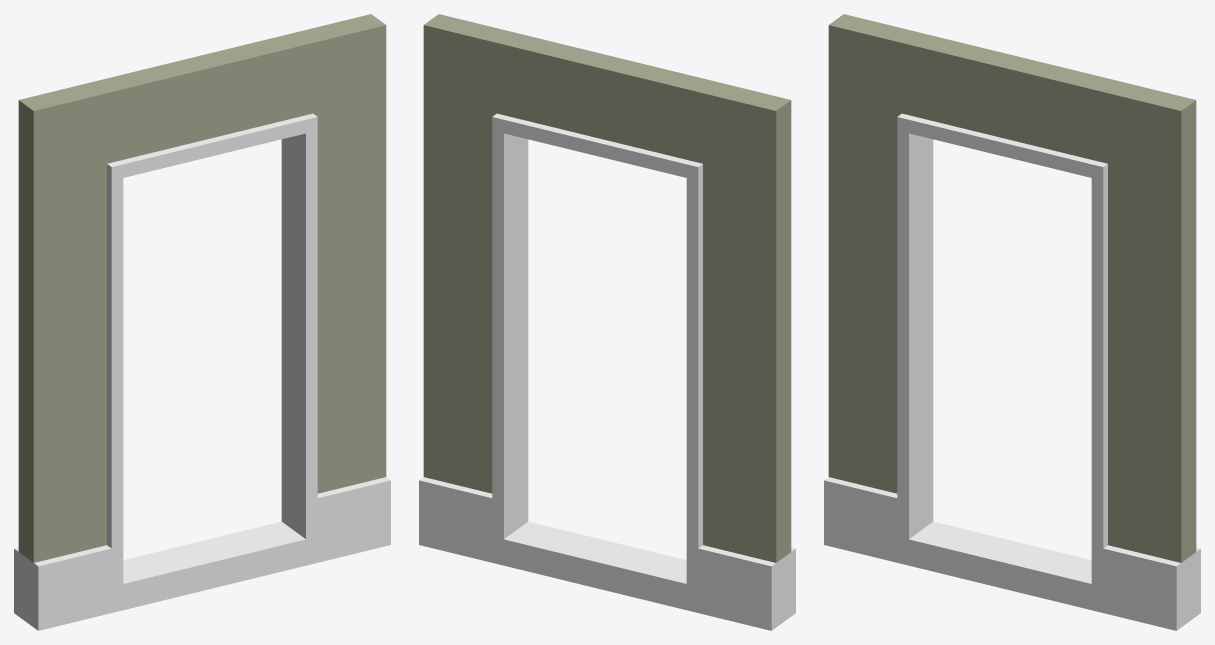
File: Wall_Half_Door.fbx
3 renders of one model, left to right at view 1: azimuth 30°, elevation 25°; view 2: azimuth 150°, elevation 25°; view 3: azimuth 330°, elevation 25°, orthographic.
Parts seen in each view (by area): view 1: Wall_Half_Door; view 2: Wall_Half_Door; view 3: Wall_Half_Door.
Boxes of the visible parts, bbox=[...] form: Wall_Half_Door: bbox=[14, 14, 390, 630]; Wall_Half_Door: bbox=[419, 14, 795, 630]; Wall_Half_Door: bbox=[824, 14, 1200, 630].
Size of the model in its own units: 250 by 350 by 30.
